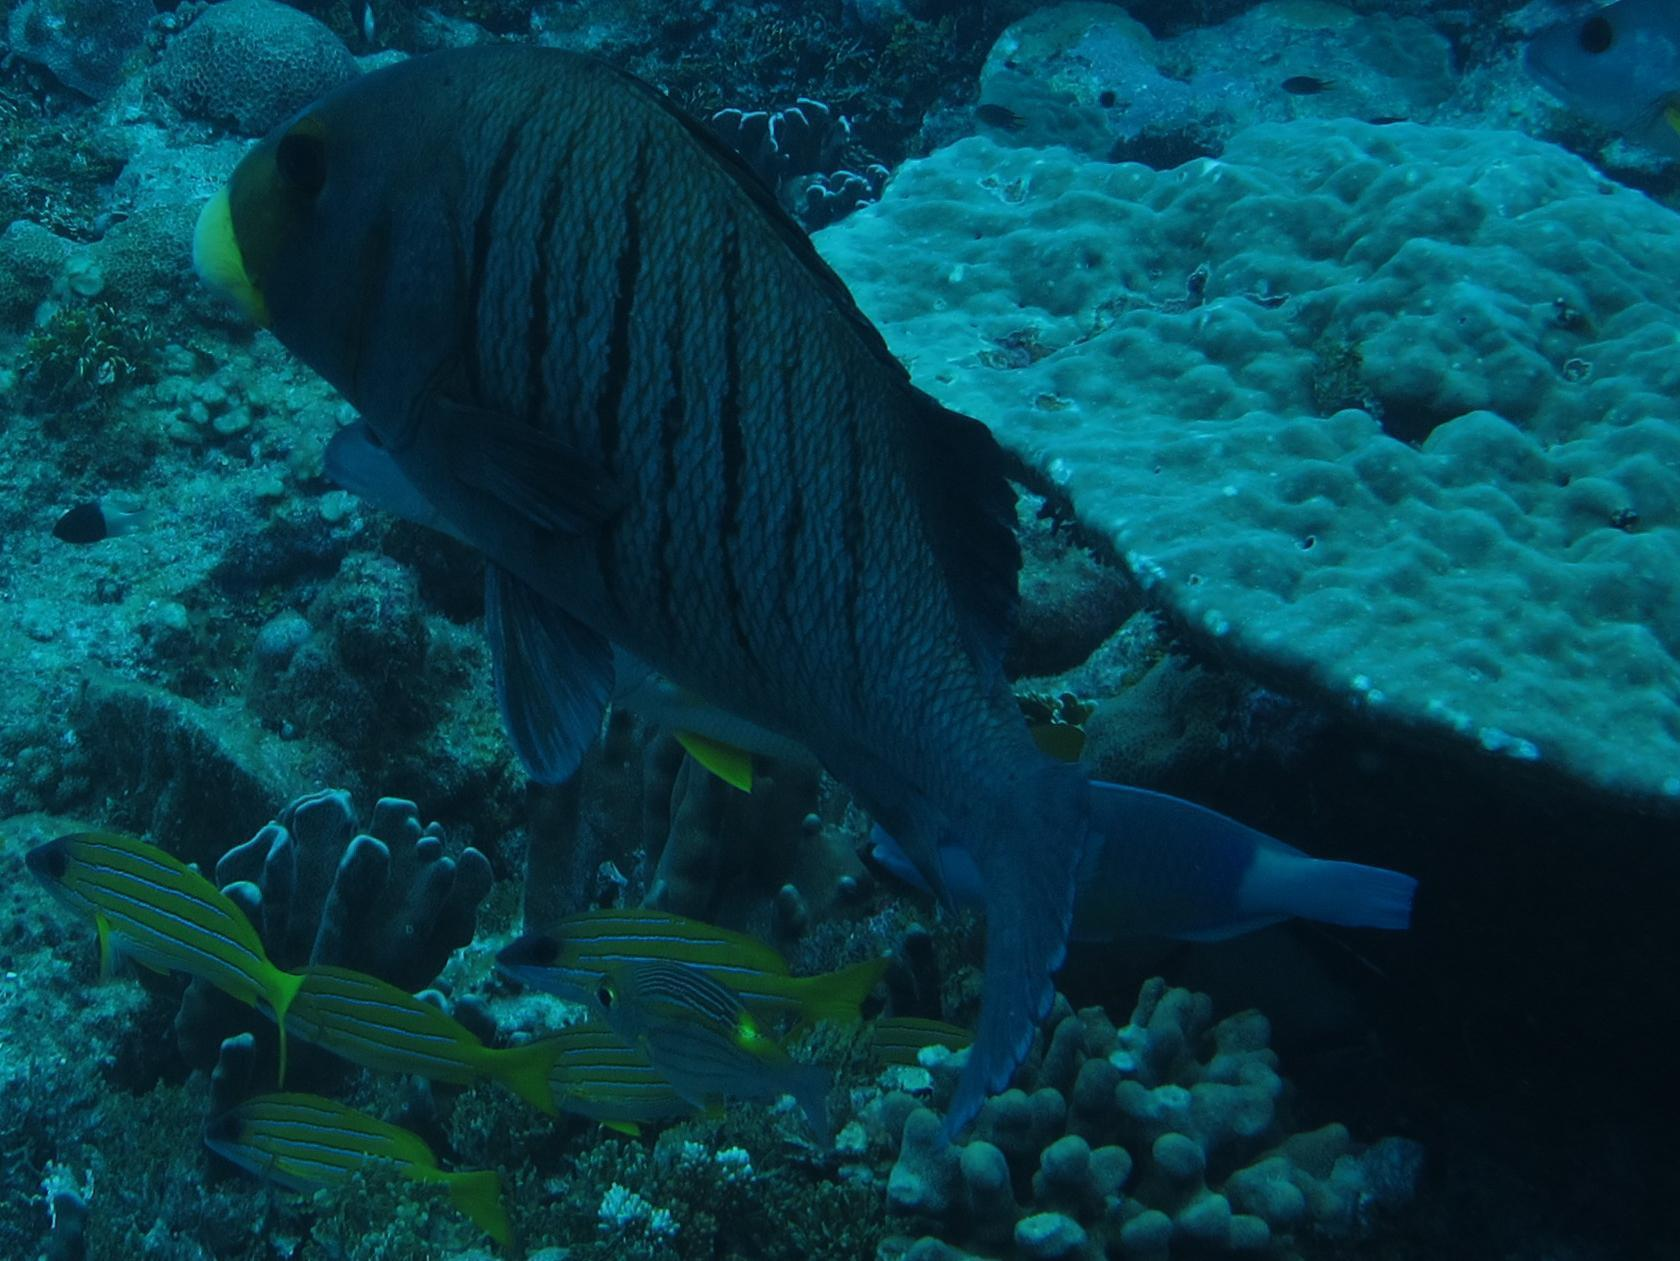Fish: (151, 30, 1451, 1134)
